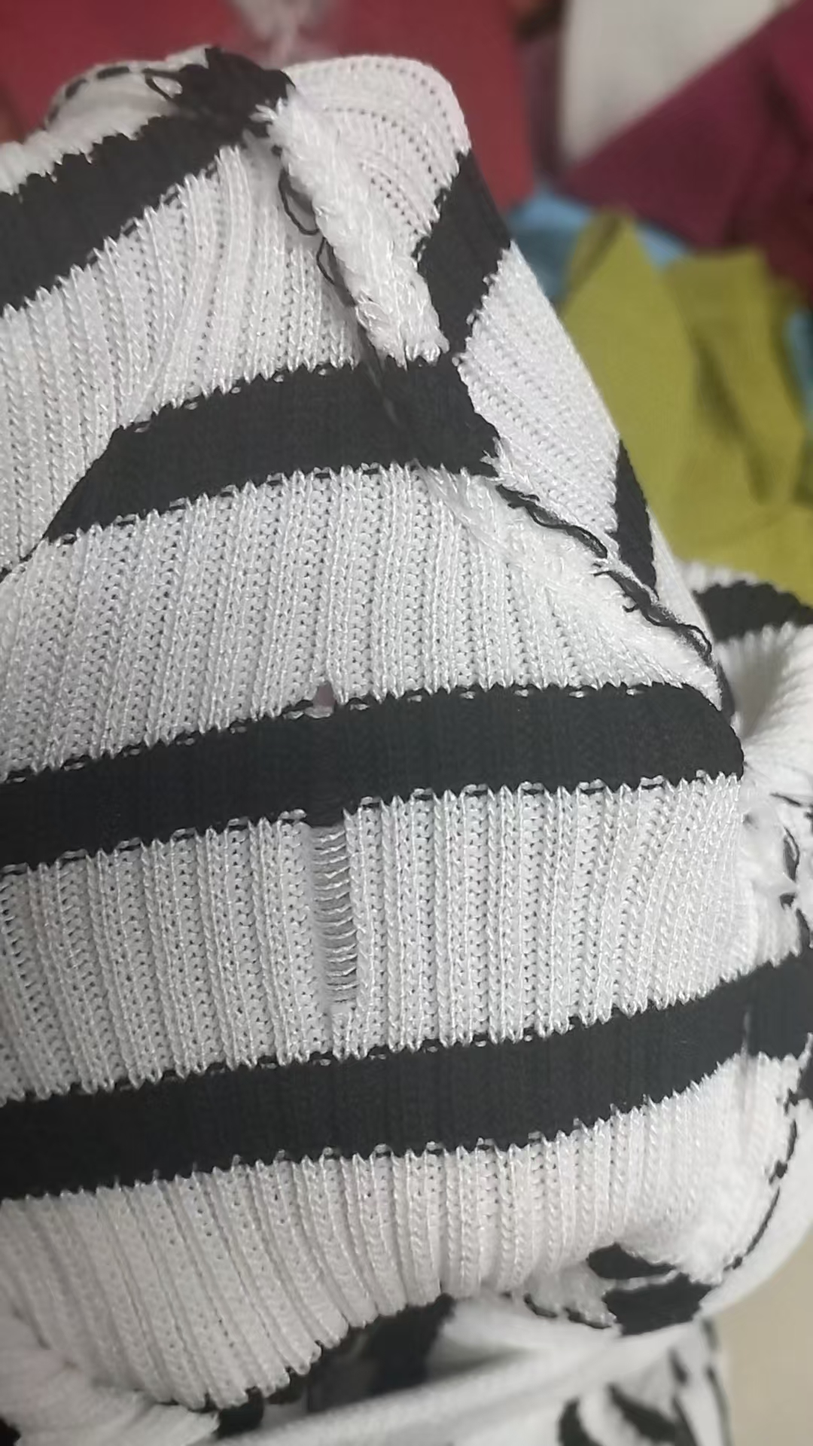missing_stitch_1: (297, 681, 371, 1022)
